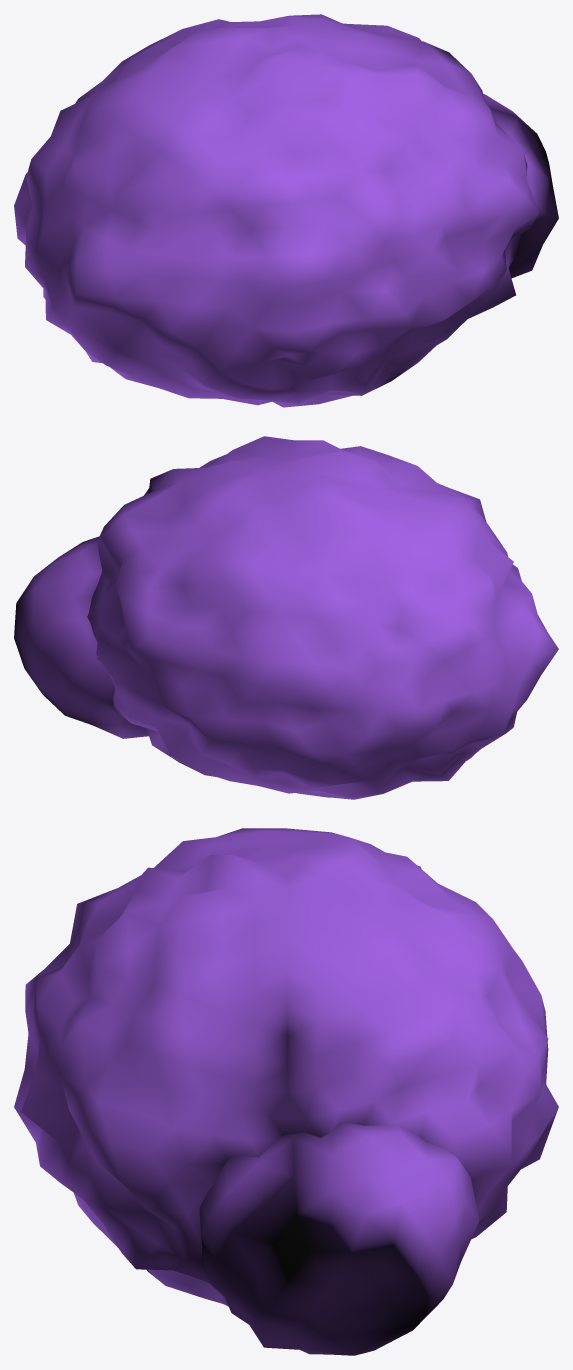
File: coral_brain.glb
The picture shows the model from 3 angles, top to bottom: view 1: azimuth 30°, elevation 25°; view 2: azimuth 150°, elevation 25°; view 3: azimuth 270°, elevation 25°; orthographic projection. The views are drawn at different scales.
Visible parts, largest first — view 1: coral_brain_mesh; view 2: coral_brain_mesh; view 3: coral_brain_mesh.
Boxes of the visible parts, x1,y1,x2,y2 form: coral_brain_mesh: (14, 14, 558, 407); coral_brain_mesh: (14, 436, 558, 799); coral_brain_mesh: (14, 828, 558, 1355).
Bounding box in the file's own units: 1.64 × 1.04 × 1.26.
